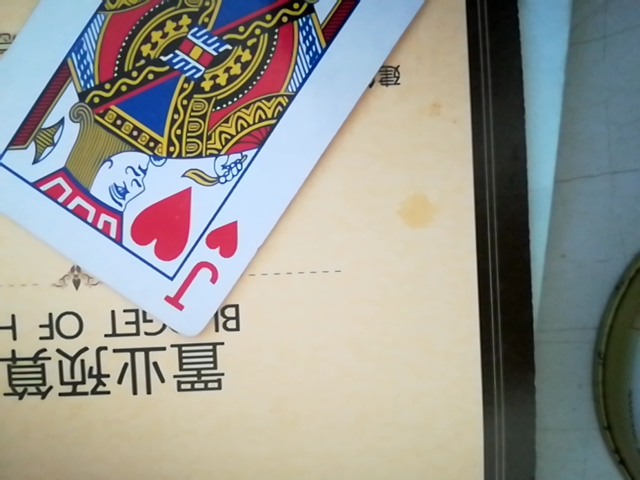hx j: (2, 0, 457, 346)
